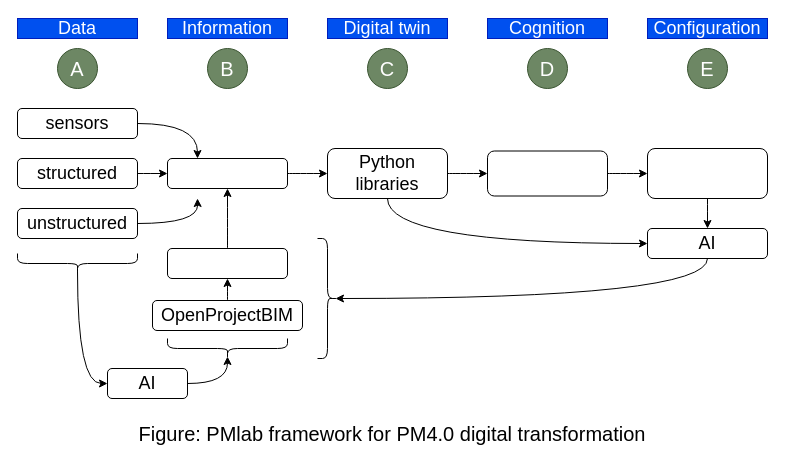
Image size: 785x465. Some labels were removed from this diagram. Each missing label, with the centre of its shape:
"Blender IFC" belongs at pixel 227 263.
"IFC" belongs at pixel 227 173.
"Vue / React" belongs at pixel 547 173.
"White box" belongs at pixel 707 173.
